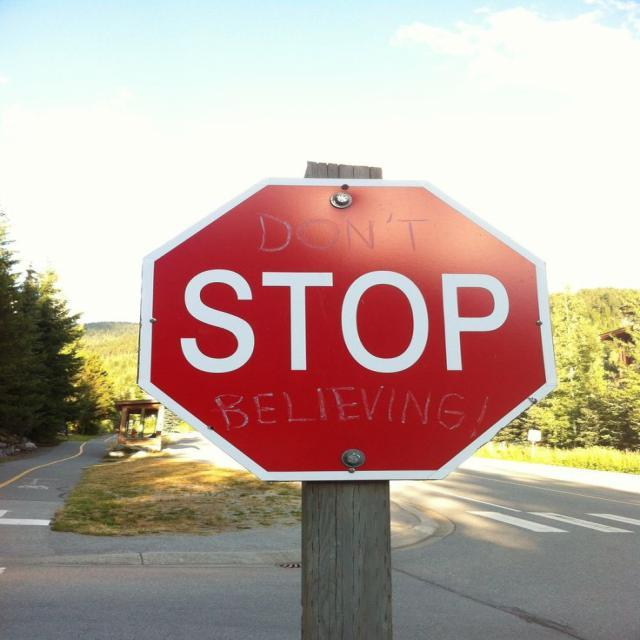stop: (135, 175, 558, 483)
